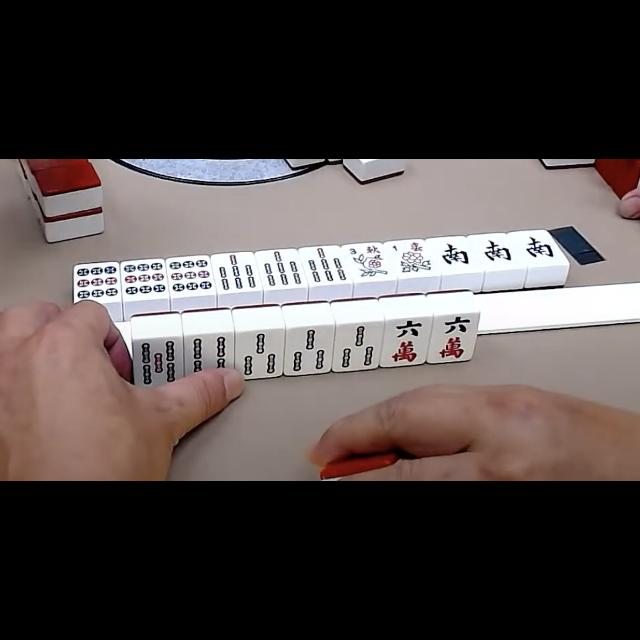b3: (237, 329, 283, 377), (335, 322, 381, 370), (286, 326, 332, 374)
b4: (186, 334, 232, 378)
b5: (134, 338, 182, 386)
b7: (259, 250, 305, 288), (216, 254, 258, 292), (305, 248, 349, 284)
c6: (432, 313, 476, 361), (384, 317, 428, 365)
d9: (74, 261, 118, 303), (168, 256, 214, 296), (122, 260, 166, 298)
s1: (388, 240, 428, 256)
s3: (347, 242, 383, 258)
ws: (434, 237, 476, 273), (518, 230, 558, 266), (476, 234, 518, 268)
